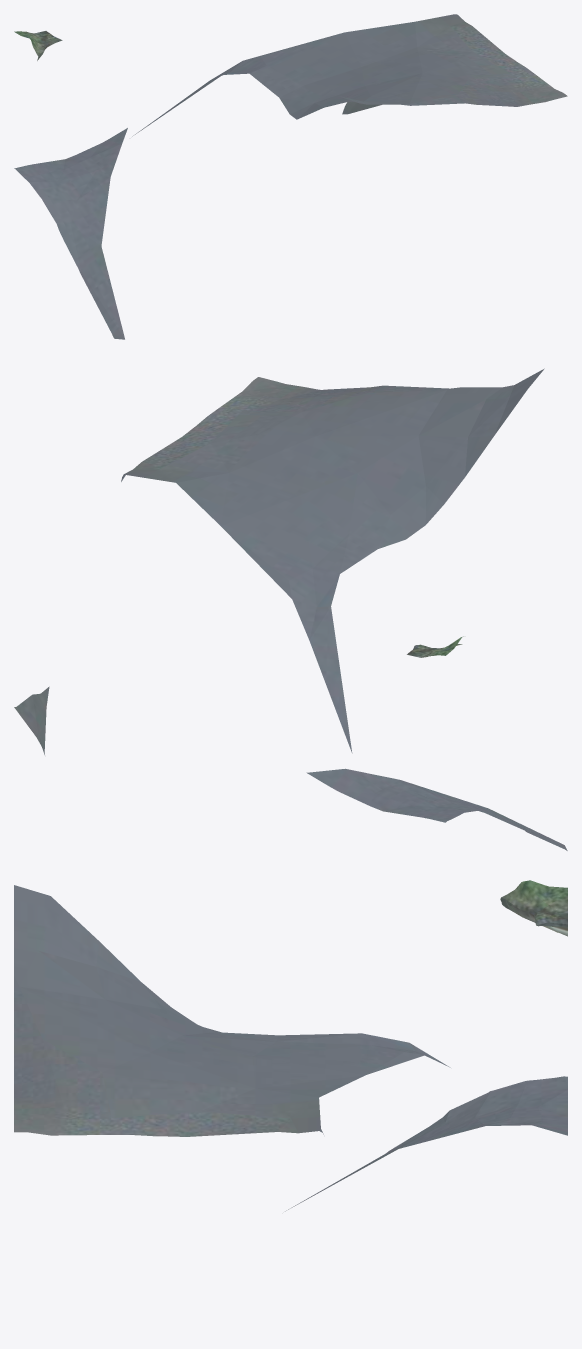
File: Tile_+001_+006_L21_0002000.glb
The picture shows the model from 3 angles, top to bottom: view 1: azimuth 30°, elevation 25°; view 2: azimuth 150°, elevation 25°; view 3: azimuth 270°, elevation 25°; orthographic projection. The views are drawn at different scales.
Visible parts, largest first — view 1: rtc; view 2: rtc; view 3: rtc.
Boxes of the visible parts, left/top/right/bottom form: rtc: left=14, top=14, right=567, bottom=339; rtc: left=14, top=368, right=567, bottom=850; rtc: left=14, top=880, right=567, bottom=1211.
Bounding box in the file's own units: 25.63 × 20.33 × 25.12.
1 material, 1 textured.
